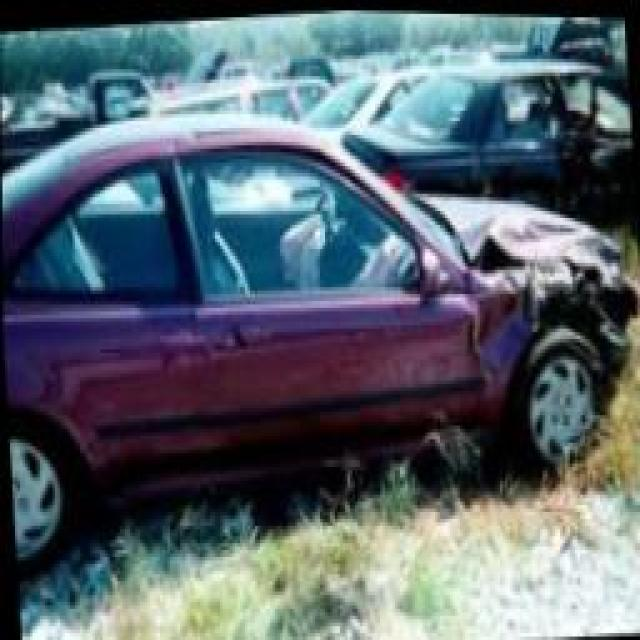Bonnet: (413, 183, 632, 277)
Bumper: (602, 287, 639, 407)
Fender: (458, 276, 624, 422)
